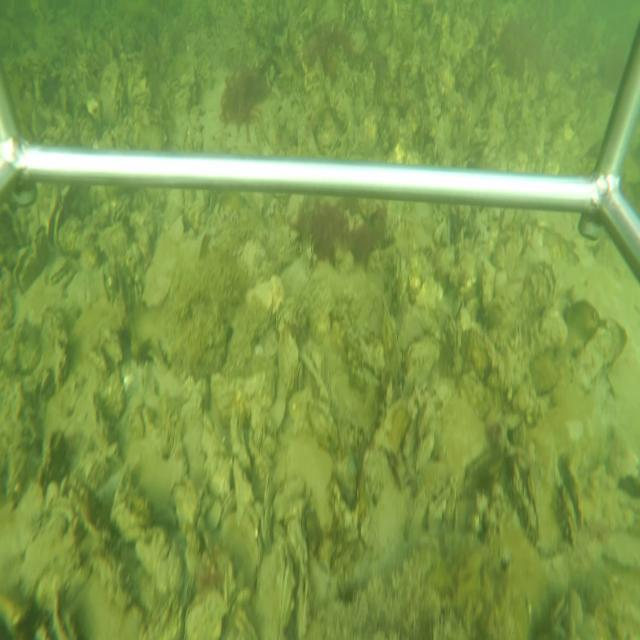Oyster-Closed: (255, 542, 299, 636), (285, 516, 310, 638)
Oyster-Indeterminate: (357, 443, 409, 556), (139, 230, 181, 311)
Oyster-Open: (556, 455, 587, 541), (12, 246, 42, 296)
